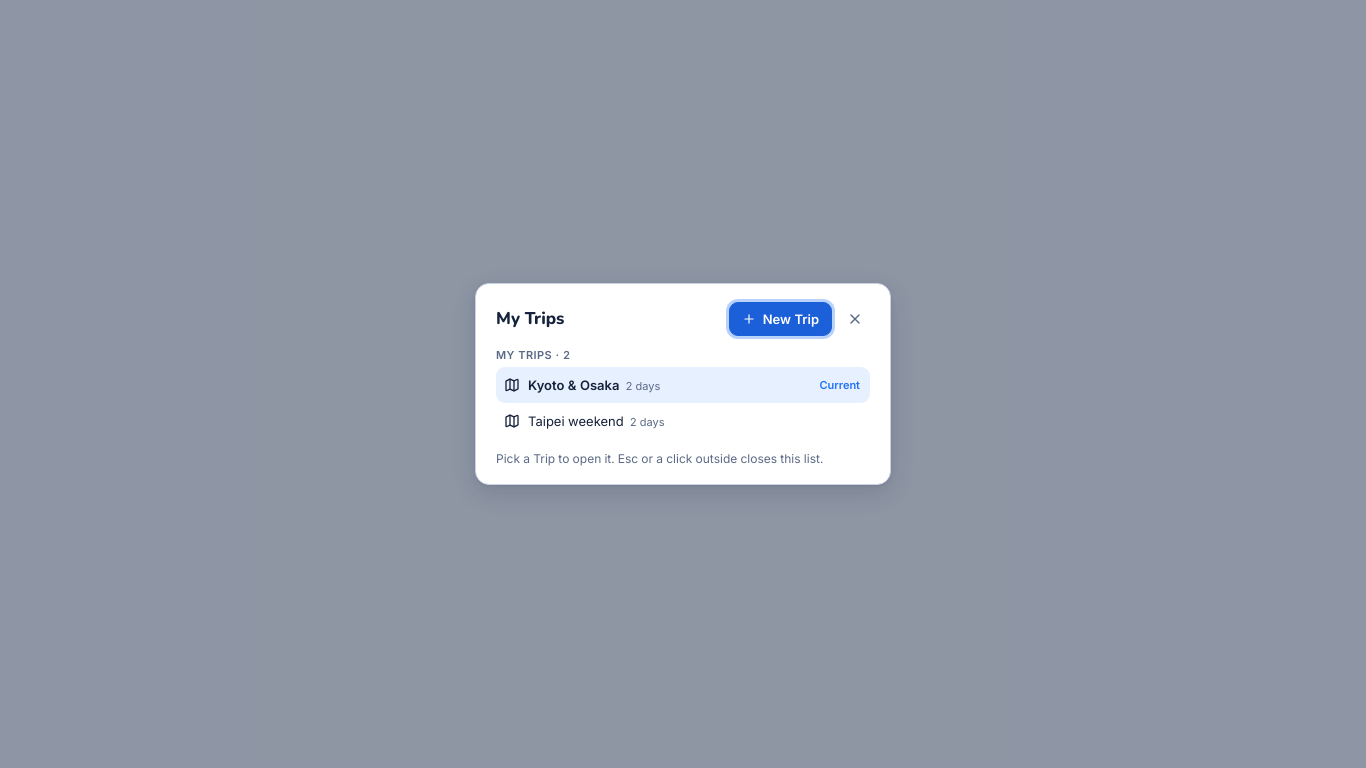
Test: New Trip › replaces My Trips while it is open, and My Trips comes back on Cancel
What coordinates should you click on to do the following:
click the button "New Trip"
I would click on:
 (780, 319)
Its box is [729,302,832,336].
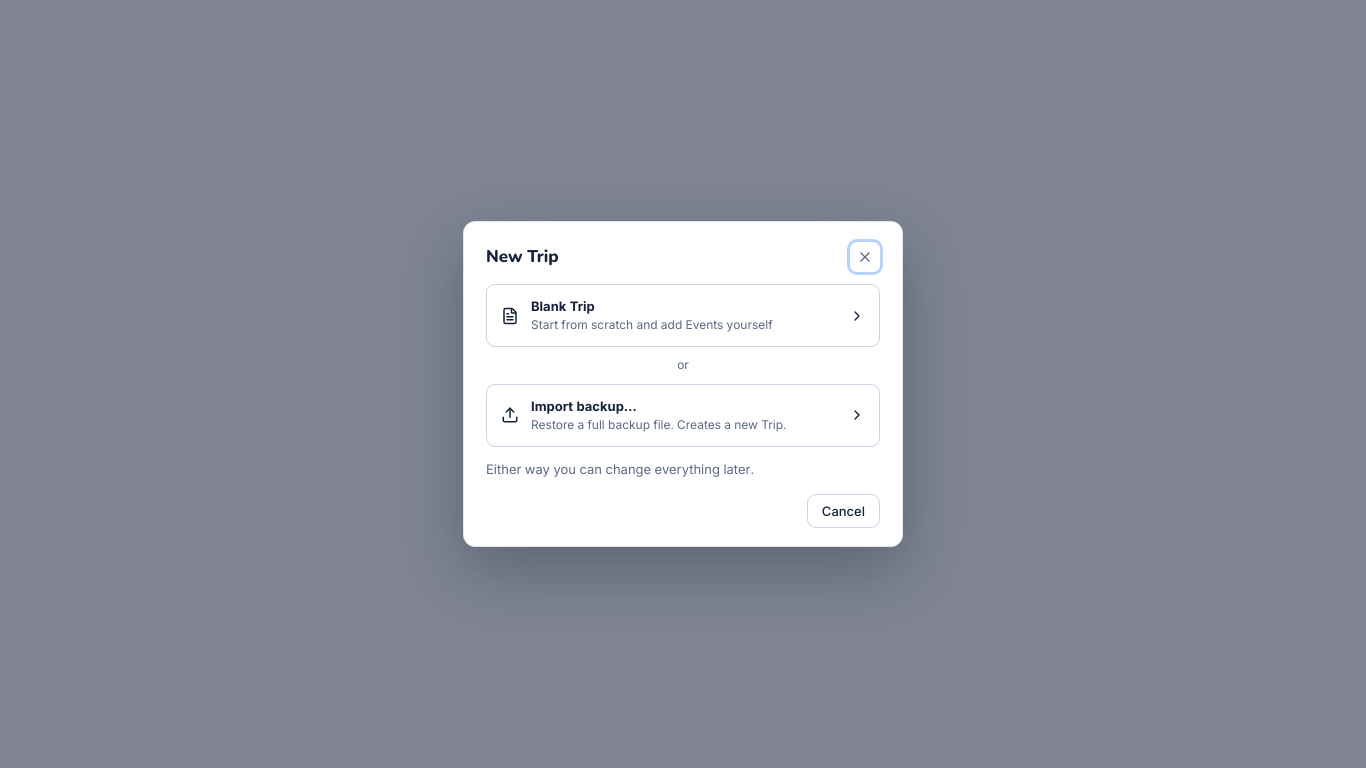
Now the text "My Trips · 2" is gone
What coordinates should you click on to do the following:
click the button "Cancel"
I would click on:
 (843, 511)
Its box is [807,494,880,528].
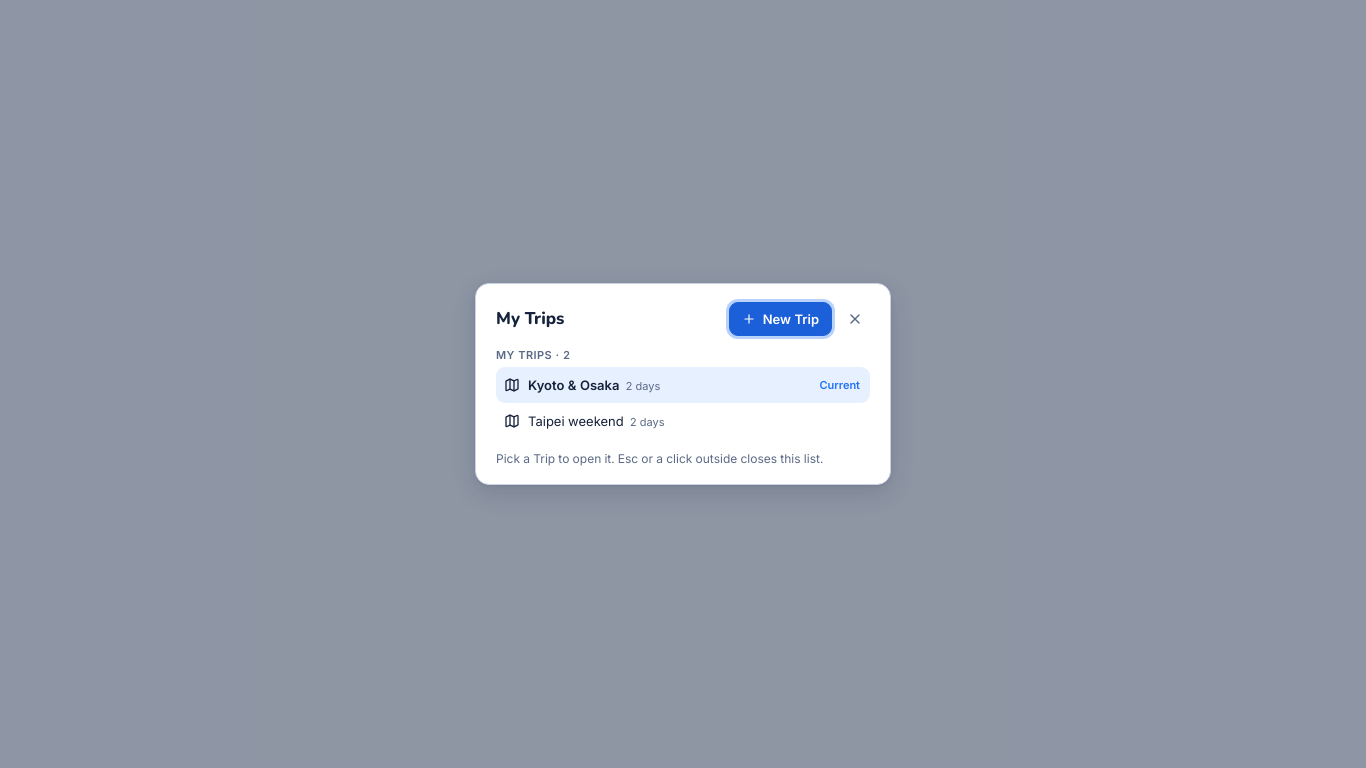
Now the text "My Trips · 2" is shown, box [496,348,570,362]
